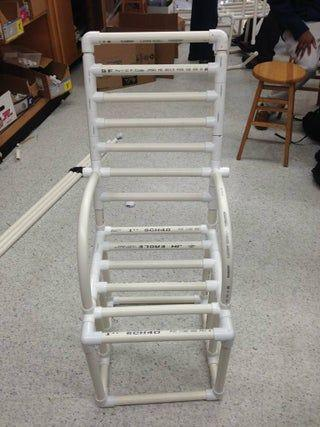PVC: (80, 60, 227, 81), (84, 140, 224, 160), (209, 30, 229, 167), (83, 33, 100, 175), (82, 330, 235, 344), (94, 301, 226, 317), (80, 32, 219, 47), (80, 115, 226, 129), (97, 222, 215, 238), (79, 93, 222, 105), (85, 169, 227, 181), (106, 391, 216, 404), (98, 239, 217, 251), (93, 259, 220, 270), (95, 283, 225, 293), (98, 194, 222, 204), (87, 352, 107, 410), (215, 340, 234, 401), (74, 185, 92, 245), (218, 188, 233, 254), (78, 248, 92, 317), (223, 259, 230, 310)
